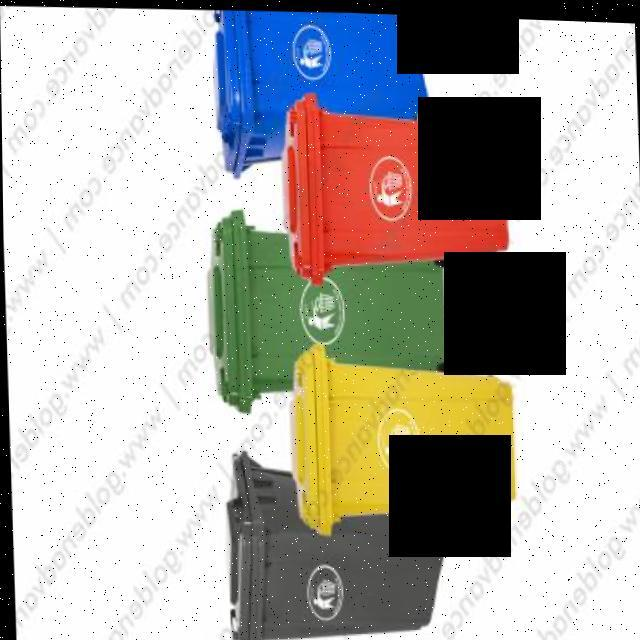bin: (197, 199, 450, 422), (278, 330, 523, 544), (276, 85, 515, 296), (215, 436, 448, 640), (206, 6, 431, 182)
